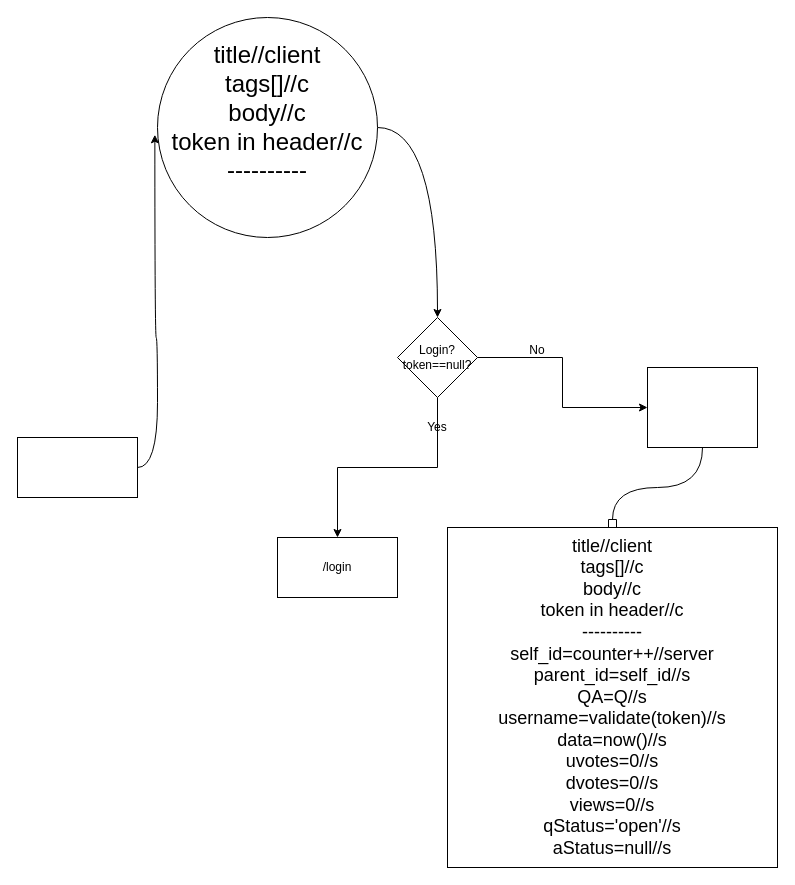
Image size: 795x885. Some labels were removed from this diagram. Here are the shapes that lost their labels. From the top down, the centre of each, then its label:
At point 702,407: "/lnewpost".
At point 77,467: "Create Q".
